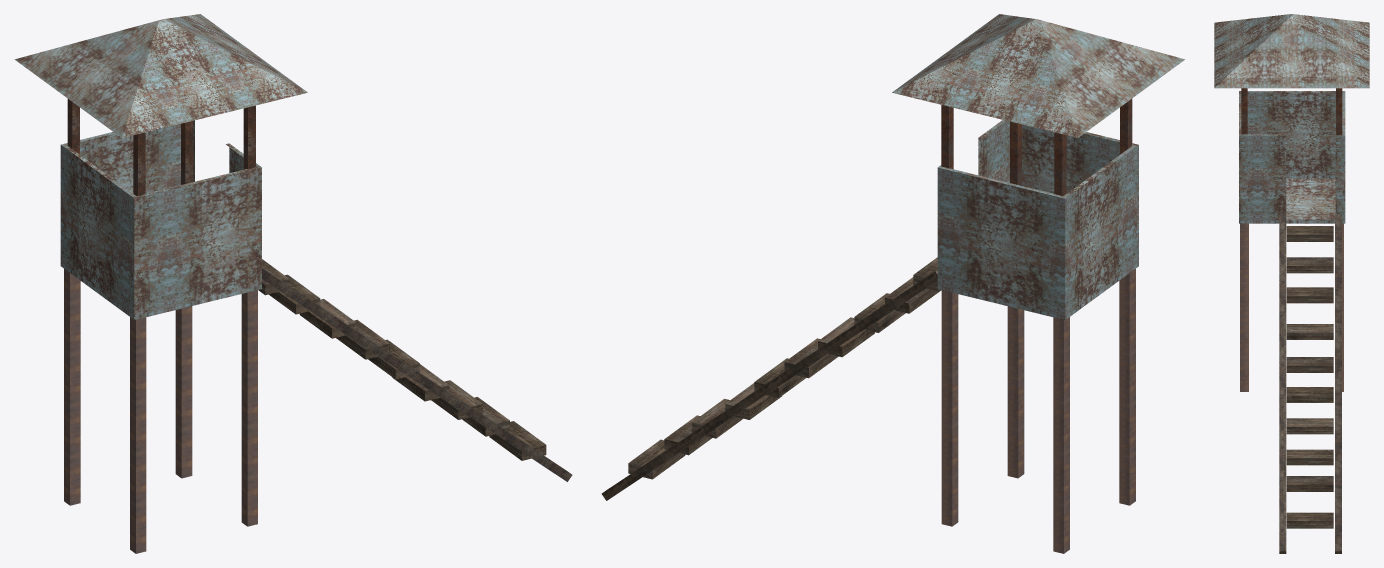
File: military_guard_tower_watchtower.glb
3 renders of one model, left to right at view 1: azimuth 30°, elevation 25°; view 2: azimuth 150°, elevation 25°; view 3: azimuth 270°, elevation 25°, orthographic. The views are drawn at different scales.
Visible parts, largest first — view 1: Cube_0, Cube.006_4, Cube.007_5, Cube.001_1, Cube.002_2; view 2: Cube_0, Cube.006_4, Cube.007_5, Cube.001_1, Cube.002_2; view 3: Cube_0, Cube.001_1, Cube.006_4, Cube.007_5, Cube.002_2.
Boxes of the visible parts, bbox=[...] form: Cube_0: bbox=[60, 120, 261, 319]; Cube.006_4: bbox=[14, 14, 307, 137]; Cube.007_5: bbox=[64, 269, 257, 553]; Cube.001_1: bbox=[258, 259, 572, 481]; Cube.002_2: bbox=[67, 99, 255, 195]; Cube_0: bbox=[937, 120, 1138, 319]; Cube.006_4: bbox=[892, 14, 1184, 137]; Cube.007_5: bbox=[941, 269, 1135, 553]; Cube.001_1: bbox=[601, 257, 941, 500]; Cube.002_2: bbox=[941, 99, 1132, 195]; Cube_0: bbox=[1239, 91, 1345, 223]; Cube.001_1: bbox=[1279, 214, 1341, 553]; Cube.006_4: bbox=[1214, 14, 1369, 88]; Cube.007_5: bbox=[1240, 177, 1343, 391]; Cube.002_2: bbox=[1241, 88, 1342, 135].
Bounding box in the file's own units: 4.06 × 4.32 × 1.53.
Materials: 4 (4 with a texture image).
